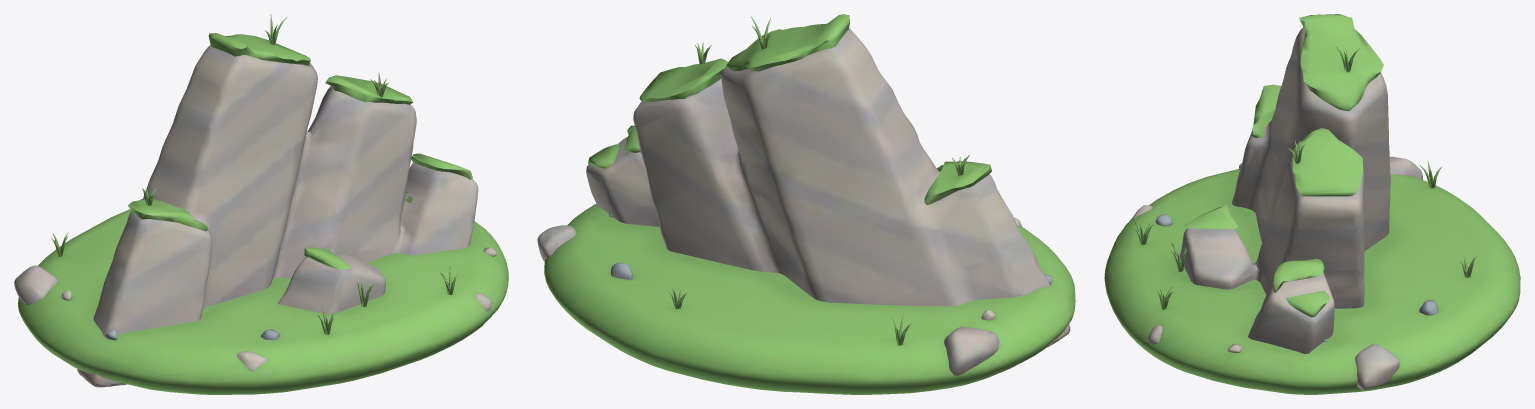
File: rocks.glb
3 renders of one model, left to right at view 1: azimuth 30°, elevation 25°; view 2: azimuth 150°, elevation 25°; view 3: azimuth 270°, elevation 25°, orthographic. The views are drawn at different scales.
Visible parts, largest first — view 1: rocky-outcrop_body; view 2: rocky-outcrop_body; view 3: rocky-outcrop_body.
Part boxes in pixels (left/top/right/bottom): rocky-outcrop_body: left=14, top=14, right=508, bottom=394; rocky-outcrop_body: left=537, top=14, right=1075, bottom=394; rocky-outcrop_body: left=1104, top=14, right=1520, bottom=394.
Bounding box in the file's own units: 4.17 × 2.47 × 3.42.
1 material, 1 textured.
